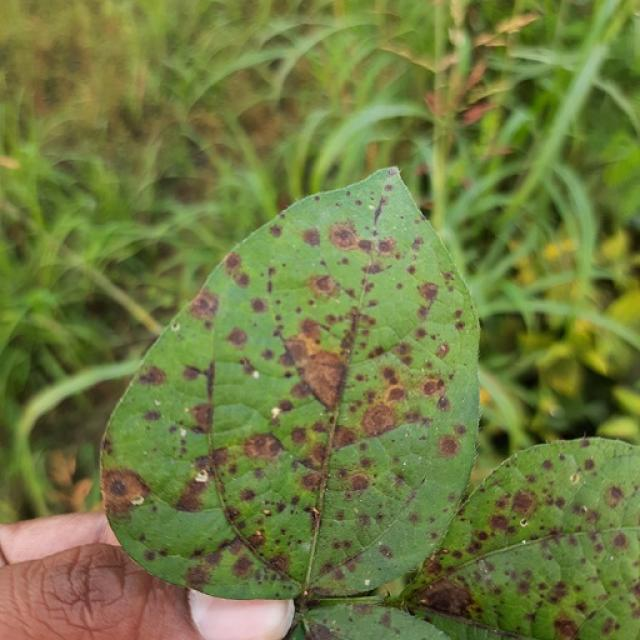Anthracnose: (99, 466, 154, 515), (411, 577, 475, 618), (174, 469, 216, 512), (357, 400, 398, 438), (243, 432, 284, 461), (188, 288, 219, 321), (329, 223, 359, 250), (509, 489, 536, 515), (190, 403, 213, 432), (298, 317, 325, 341), (331, 427, 359, 450), (138, 365, 166, 387), (553, 617, 579, 640), (186, 564, 212, 587), (266, 553, 291, 576), (312, 274, 337, 296), (437, 435, 460, 458), (231, 554, 254, 577), (225, 326, 249, 348), (300, 471, 324, 493), (417, 281, 439, 304), (488, 513, 510, 533), (361, 259, 388, 275), (348, 473, 370, 492), (181, 364, 204, 382), (422, 378, 443, 397), (301, 228, 321, 247), (393, 341, 413, 360), (607, 484, 625, 505), (246, 530, 266, 548), (376, 238, 397, 255), (224, 251, 242, 270), (386, 386, 406, 403), (382, 366, 400, 384), (611, 531, 628, 550), (141, 409, 162, 423), (250, 297, 267, 314), (233, 271, 250, 288), (276, 398, 294, 413), (378, 610, 392, 629), (378, 544, 394, 559), (582, 457, 596, 471), (143, 549, 157, 562), (268, 225, 283, 237), (541, 458, 554, 470), (437, 343, 448, 357), (570, 472, 581, 485), (580, 434, 590, 447), (455, 320, 465, 330), (171, 321, 180, 331), (262, 509, 271, 516), (355, 199, 363, 206), (385, 184, 393, 191)
Blackgram: (101, 168, 478, 599)
